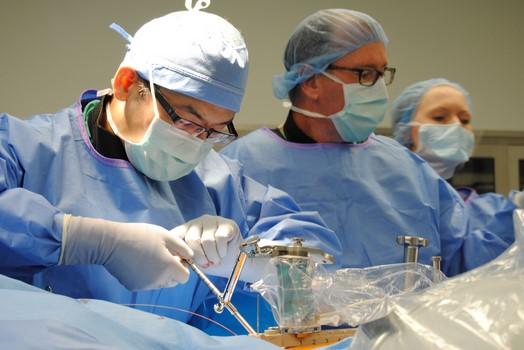face_with_mask: (107, 6, 251, 186), (283, 7, 392, 145), (399, 79, 480, 177)
